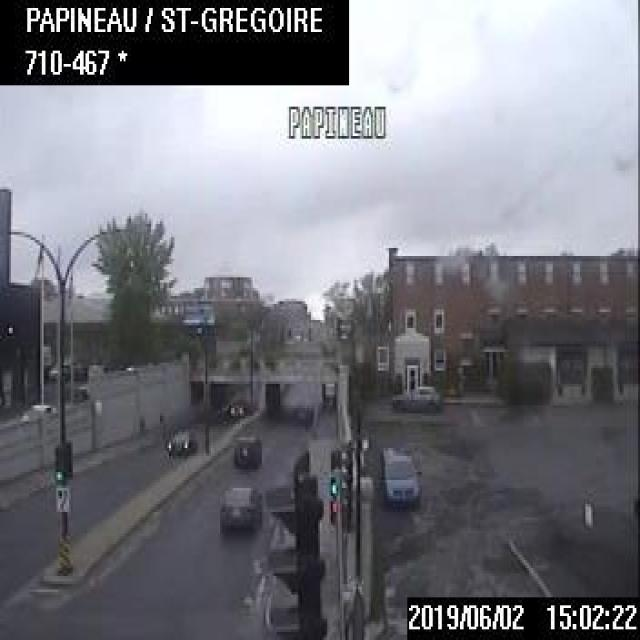vehicle: (378, 443, 420, 504), (216, 482, 260, 530), (392, 380, 442, 414), (229, 432, 262, 469), (162, 422, 197, 454), (222, 400, 244, 419)
